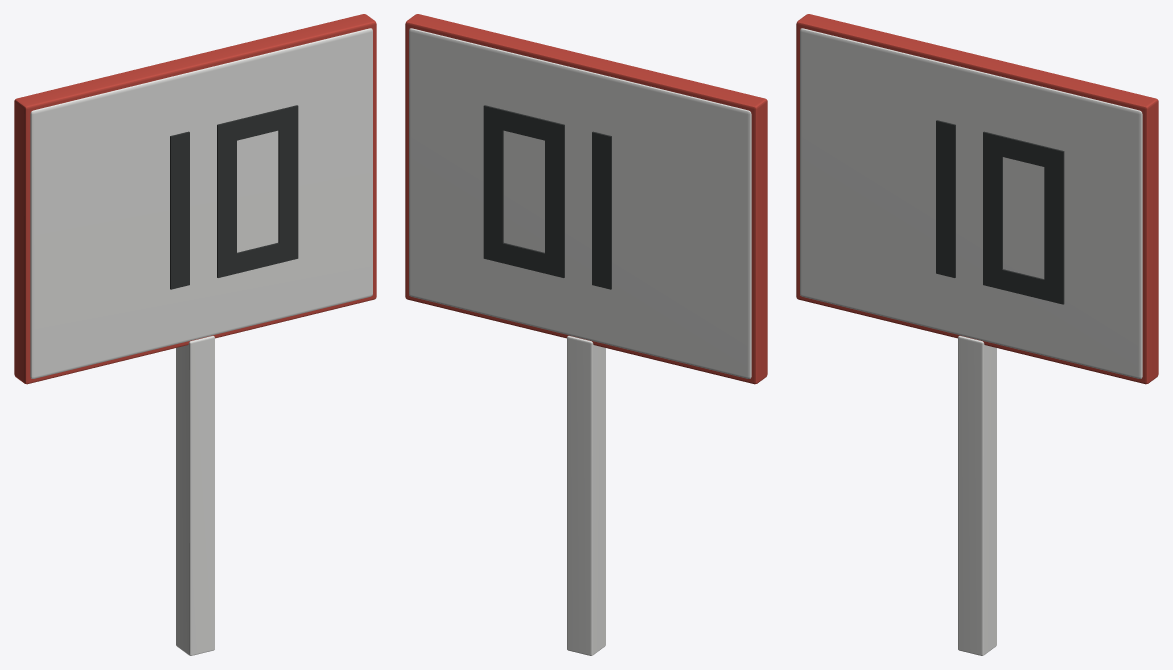
Rendered from sport.stunt.yard_board_10.glb.
3 renders of one model, left to right at view 1: azimuth 30°, elevation 25°; view 2: azimuth 150°, elevation 25°; view 3: azimuth 330°, elevation 25°, orthographic.
Parts seen in each view (by area): view 1: main__paint_eed, main__paint_c44, main__paint_333; view 2: main__paint_eed, main__paint_c44, main__paint_333; view 3: main__paint_eed, main__paint_c44, main__paint_333.
Boxes of the visible parts, box(x1,y1,x2,y2) form: main__paint_eed: box(30, 28, 372, 655); main__paint_c44: box(14, 14, 376, 384); main__paint_333: box(170, 105, 298, 289); main__paint_eed: box(409, 28, 751, 655); main__paint_c44: box(405, 14, 767, 384); main__paint_333: box(483, 105, 611, 289); main__paint_eed: box(800, 28, 1142, 655); main__paint_c44: box(796, 14, 1158, 384); main__paint_333: box(936, 120, 1064, 304).
Size of the model in its own units: 0.82 by 1.31 by 0.068.
